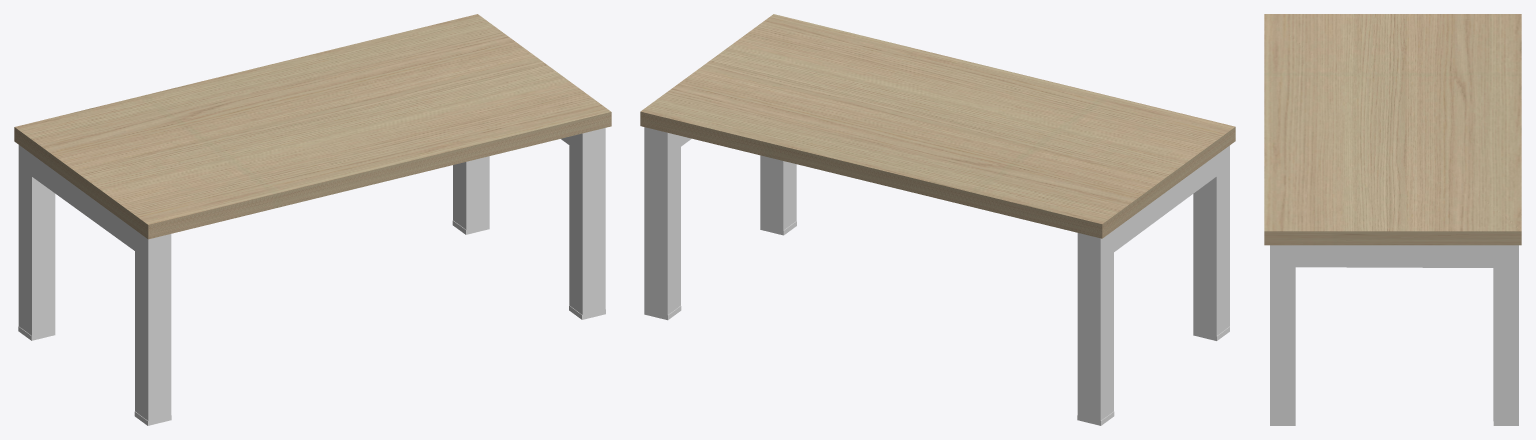
The picture shows the model from 3 angles, left to right: view 1: azimuth 30°, elevation 25°; view 2: azimuth 150°, elevation 25°; view 3: azimuth 270°, elevation 25°; orthographic projection. The views are drawn at different scales.
Parts seen in each view (by area): view 1: Box442, Line1320, Line1323; view 2: Box442, Line1320, Line1323; view 3: Box442, Line1323, Group1026.
Boxes of the visible parts, x1=… form: Box442: x1=14, y1=14, x2=611, y2=239; Line1320: x1=18, y1=145, x2=171, y2=420; Line1323: x1=453, y1=128, x2=605, y2=314; Box442: x1=640, y1=14, x2=1235, y2=238; Line1320: x1=1077, y1=145, x2=1229, y2=420; Line1323: x1=644, y1=127, x2=796, y2=315; Box442: x1=1264, y1=14, x2=1521, y2=245; Line1323: x1=1270, y1=245, x2=1518, y2=421; Group1026: x1=1270, y1=421, x2=1518, y2=425.
Bounding box in the file's own units: 1 × 0.4205 × 0.5.
2 materials, 1 textured.
